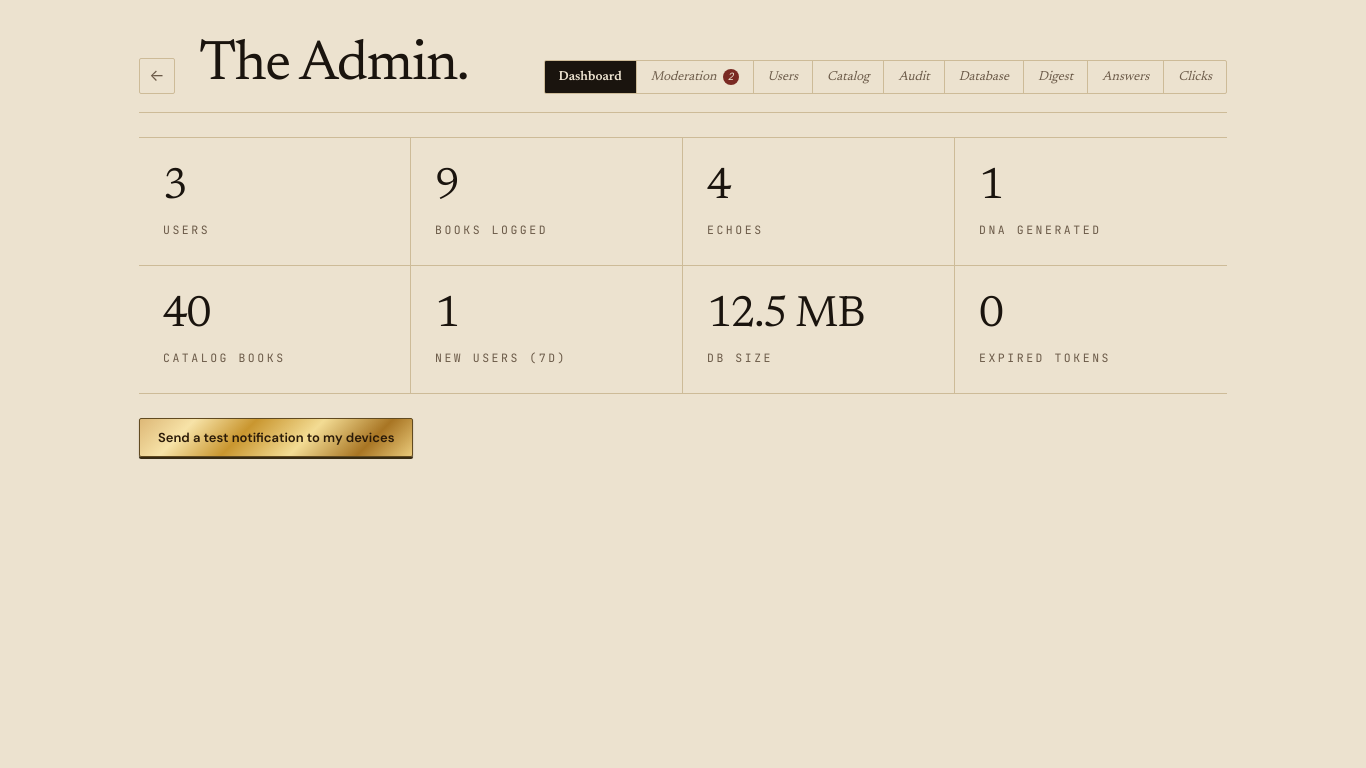
Test: the test notification › rings the admin's own devices and says how many
The width and height of the screenshot is (1366, 768).
What coordinates should you click on to do the following:
click the button "Send a test notification to my devices"
I would click on:
 (276, 437)
Its box is 139,418 -> 414,457.
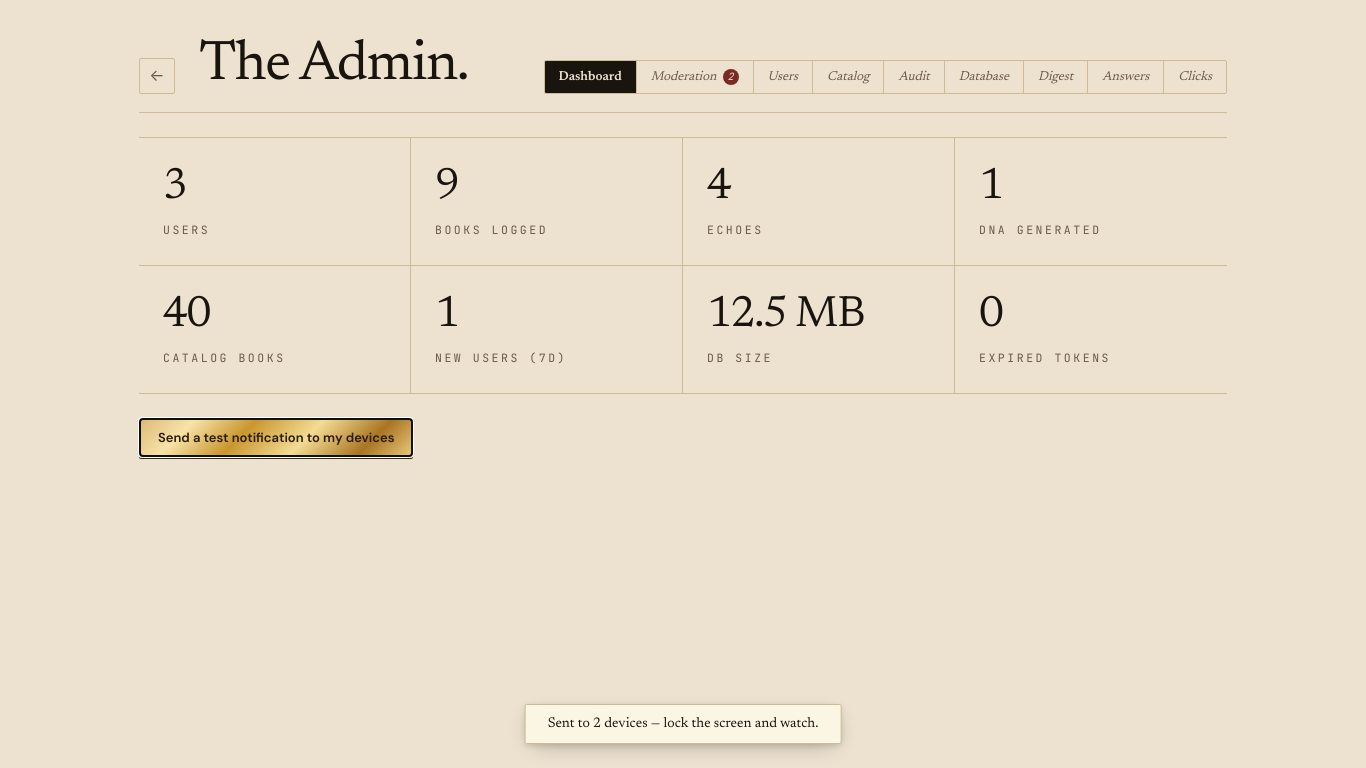
Now the text "Sent to 2 devices — lock the screen and watch." is shown, box 525,704 -> 841,744
